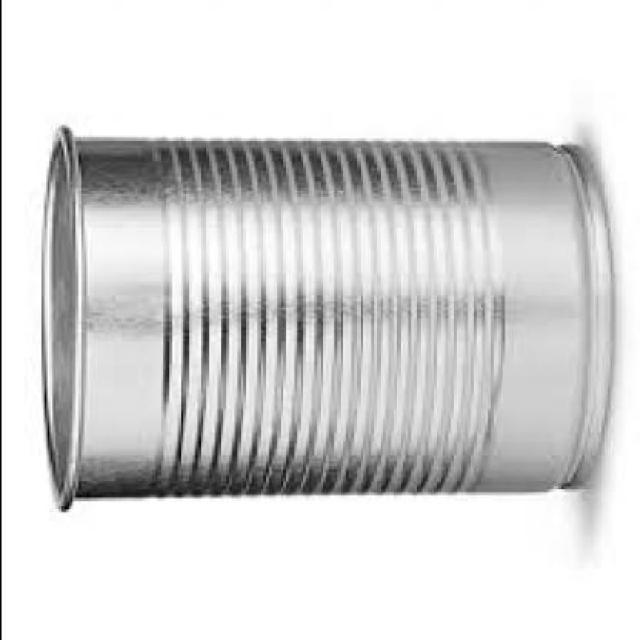METAL: (40, 125, 609, 512)
